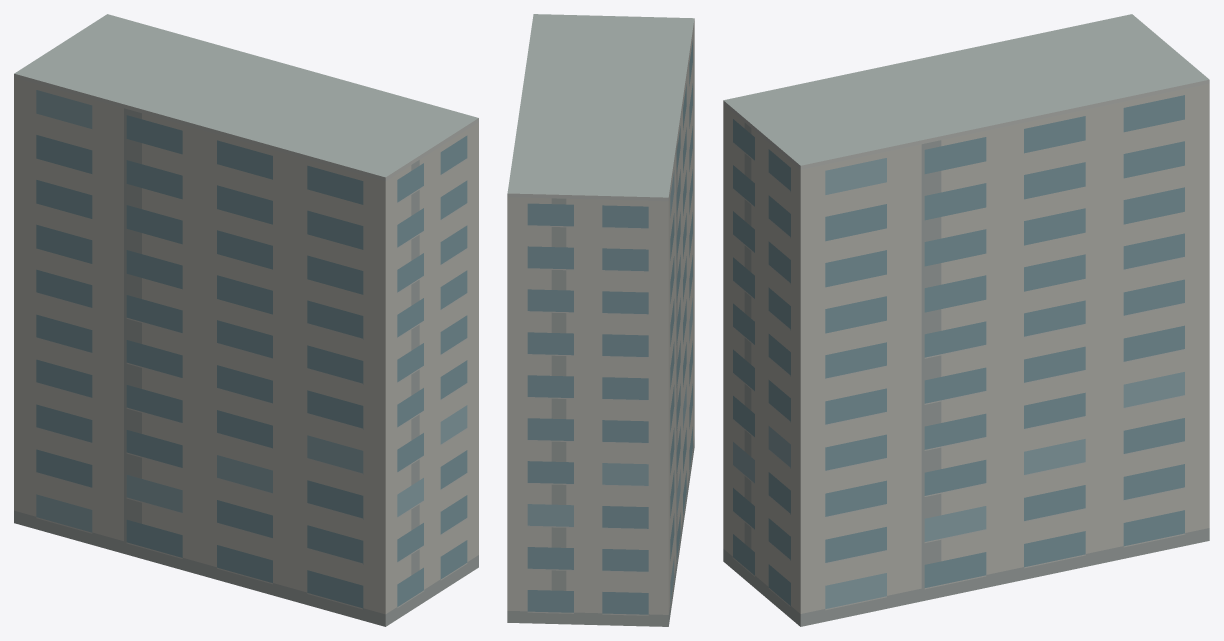
Rendered from residential-948785cb-a4db-44b4-9877-376acd008adf.glb.
The picture shows the model from 3 angles, left to right: view 1: azimuth 30°, elevation 25°; view 2: azimuth 150°, elevation 25°; view 3: azimuth 270°, elevation 25°; orthographic projection. The views are drawn at different scales.
Parts seen in each view (by area): view 1: residential-948785cb-a4db-44b4-9877-376acd008adf.tmp; view 2: residential-948785cb-a4db-44b4-9877-376acd008adf.tmp; view 3: residential-948785cb-a4db-44b4-9877-376acd008adf.tmp.
Boxes of the visible parts, <box> form: residential-948785cb-a4db-44b4-9877-376acd008adf.tmp: <box>14,14,478,626</box>; residential-948785cb-a4db-44b4-9877-376acd008adf.tmp: <box>507,14,694,626</box>; residential-948785cb-a4db-44b4-9877-376acd008adf.tmp: <box>723,14,1209,626</box>.
Size of the model in its own units: 19.77 by 28 by 26.77.
